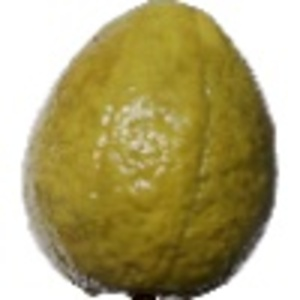goiaba: (14, 6, 283, 295)
